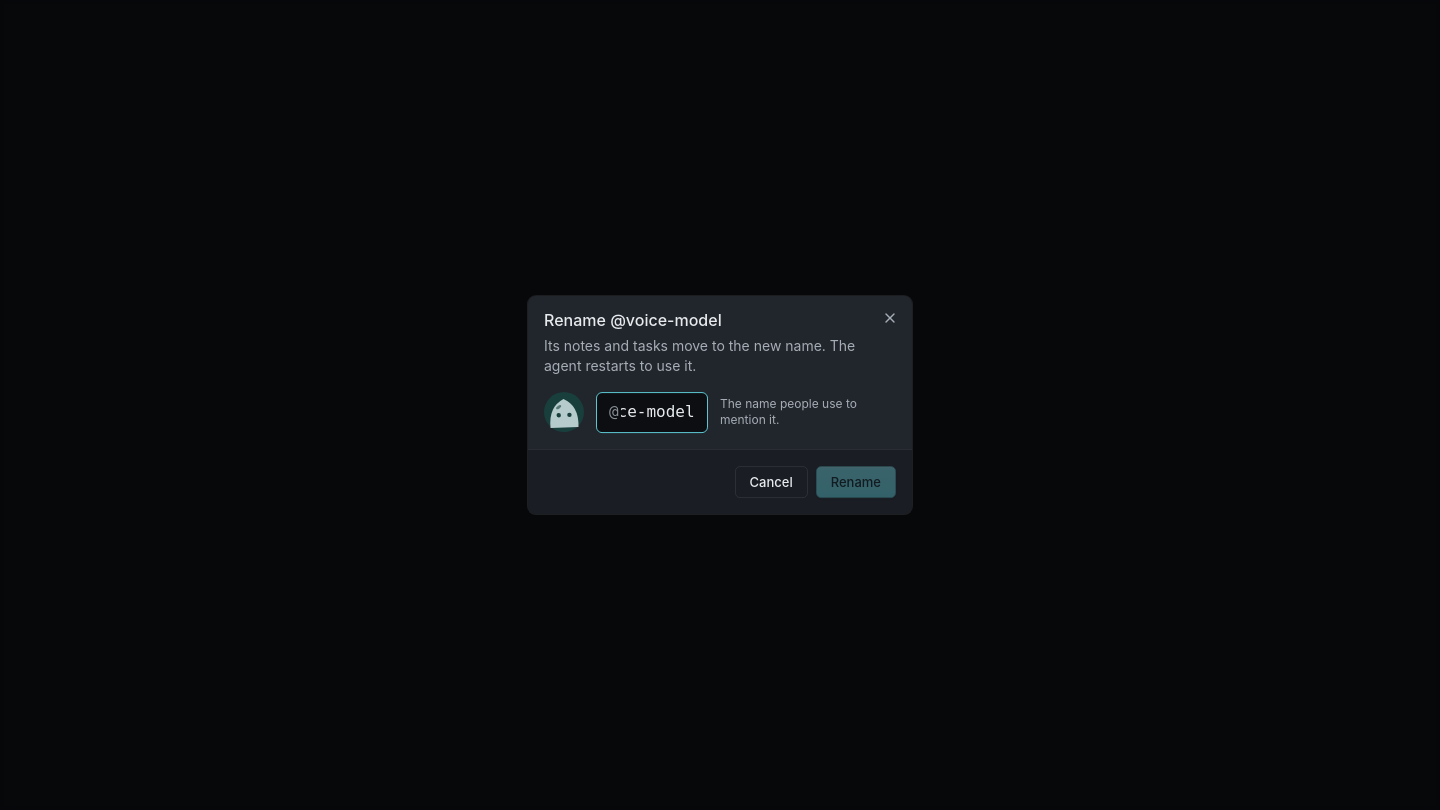
Test: <RenameAgentDialog /> › says renamed once the machine approved and restarted it
The image size is (1440, 810).
Replace the text in the field named "handle" with "docs-writer" at (657, 412), box [619,393,695,432]
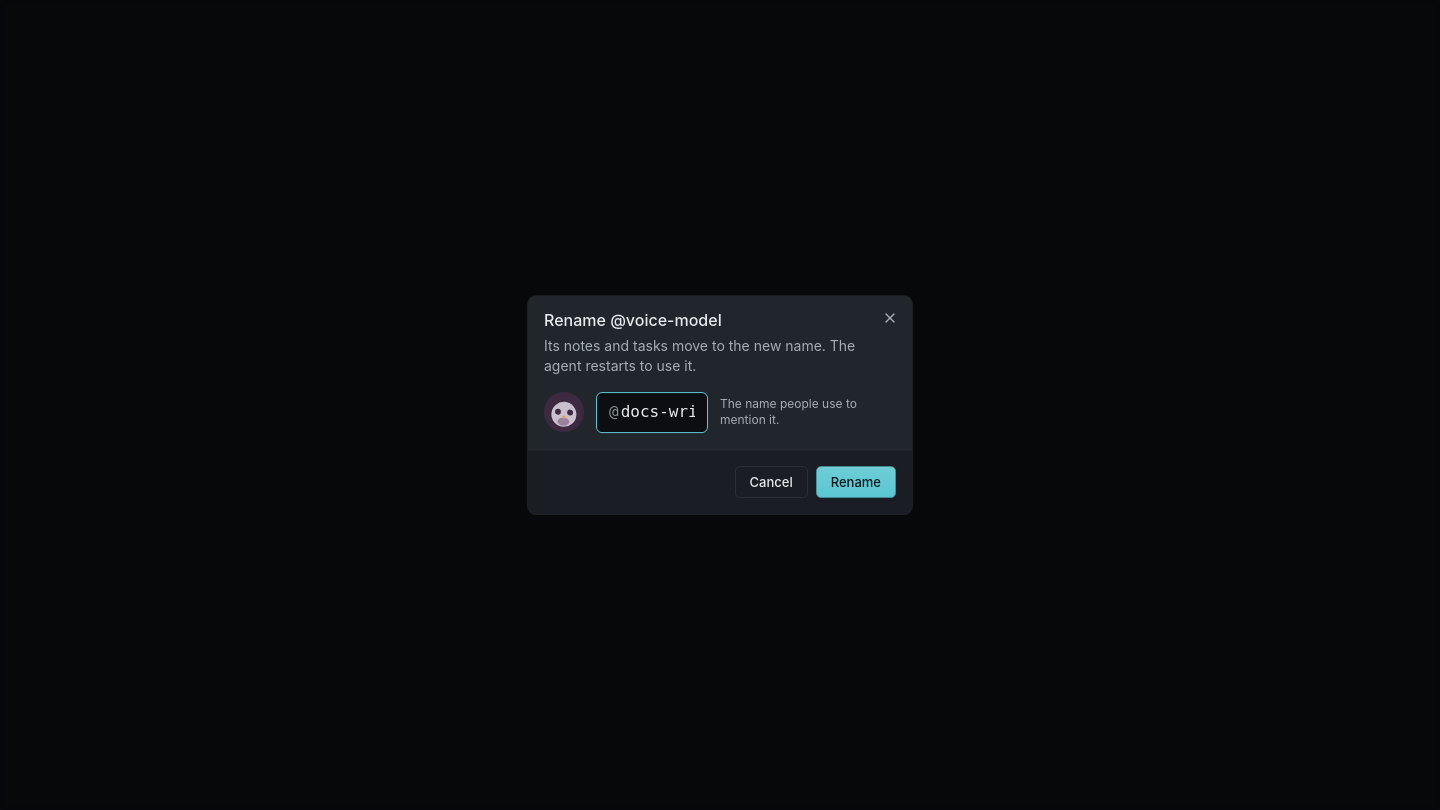
Click the button "Rename".
click(856, 482)  # box [816,466,896,498]
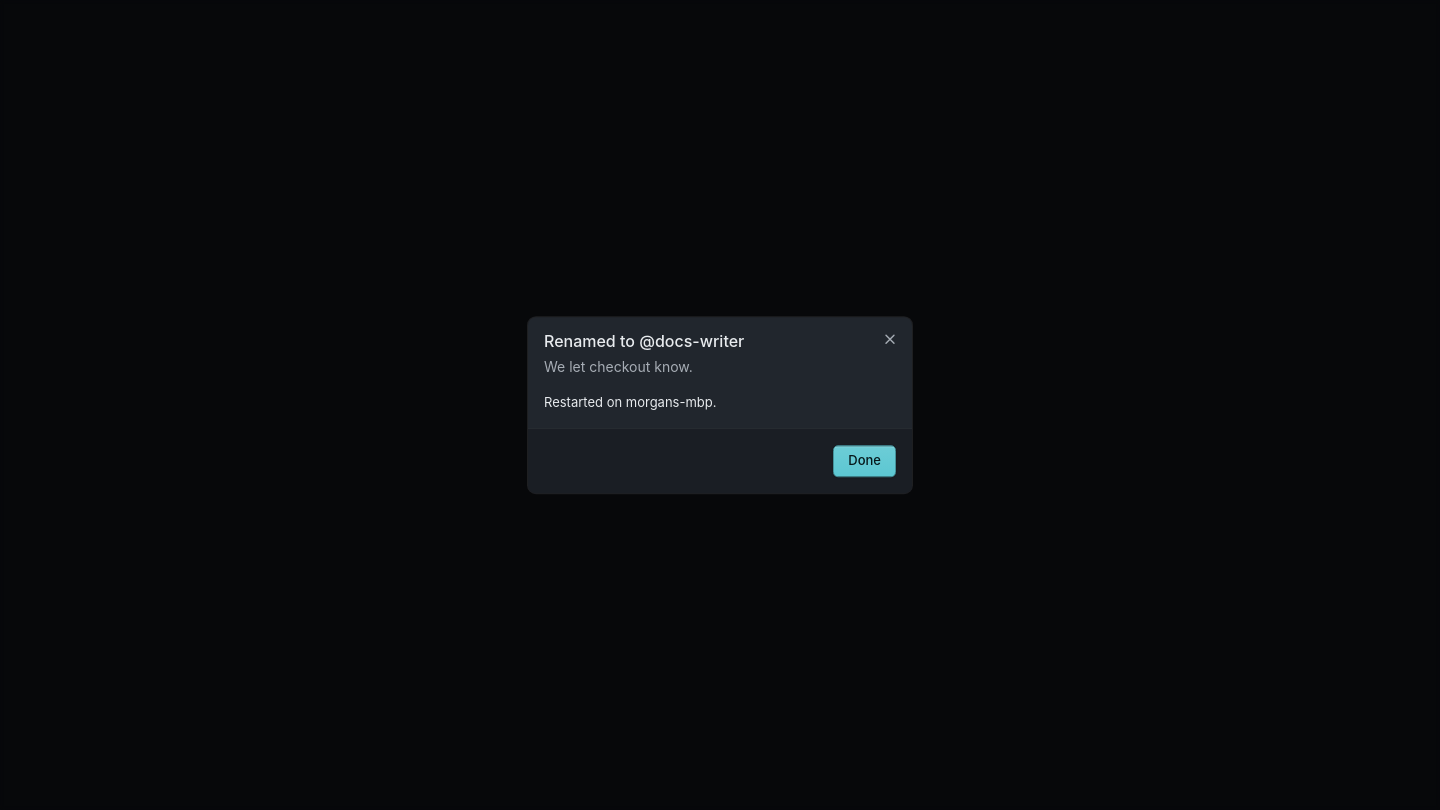
Result: the heading "Renamed to @docs-writer" is shown at [544,331,744,351]
Result: the text "We let checkout know." is shown at [544,358,693,375]
Result: the message reads "Restarted on morgans-mbp." at [544,394,716,410]
